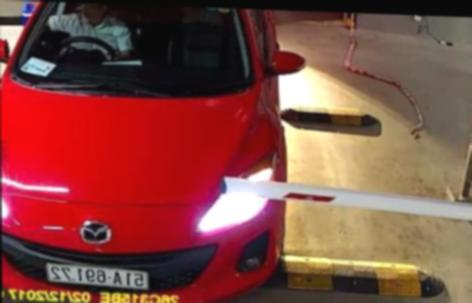License_Plate: (40, 257, 148, 292)
